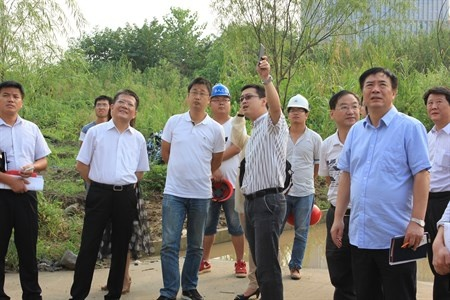blue: (207, 84, 231, 117)
none: (360, 65, 399, 113), (327, 88, 361, 129), (108, 88, 141, 123), (238, 81, 268, 116), (1, 78, 25, 115), (424, 84, 450, 118), (186, 77, 210, 113), (92, 94, 111, 118)
white: (284, 93, 309, 127)
